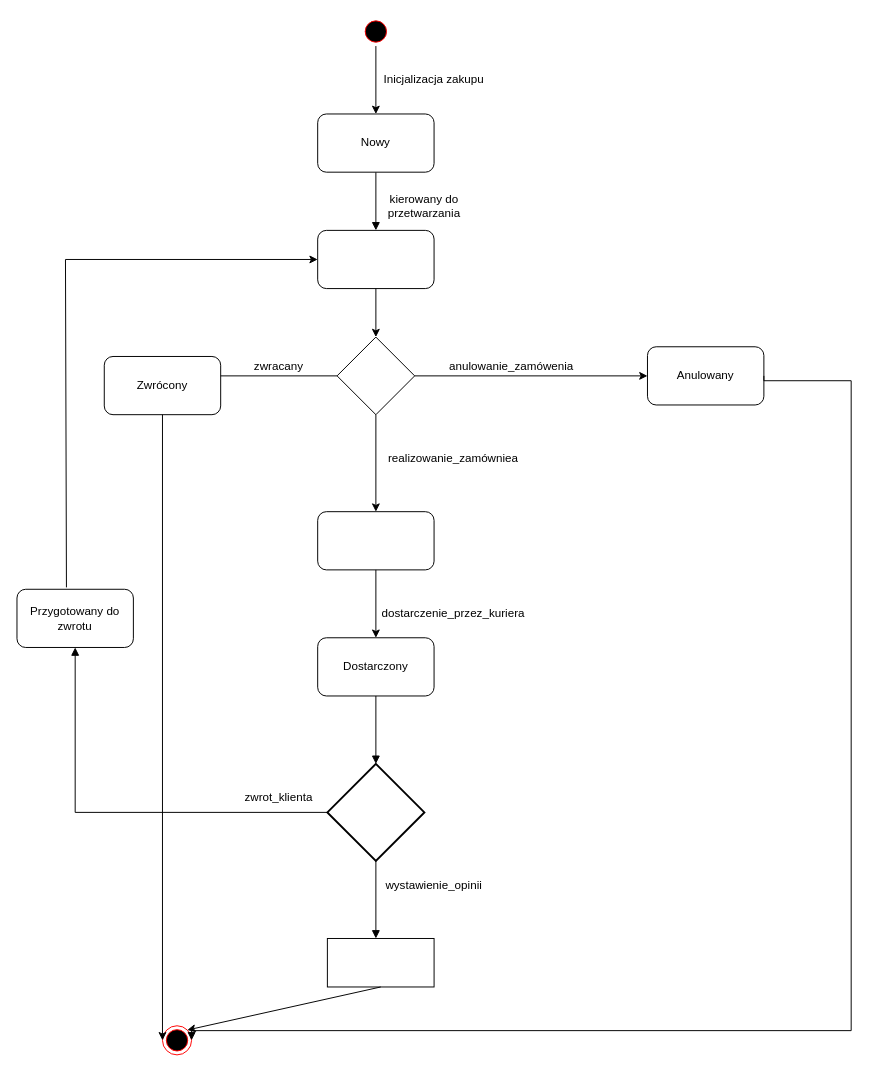
The diagram is 876 pixels wide and 1072 high, and some of its shapes have lost their labels. The box of each missing label's shape, as (x1, y1, x2, y2) in pixels:
Opinia: (326, 938, 434, 987)
Przetwarzany: (317, 229, 434, 289)
Zrealizownay: (317, 511, 434, 570)
